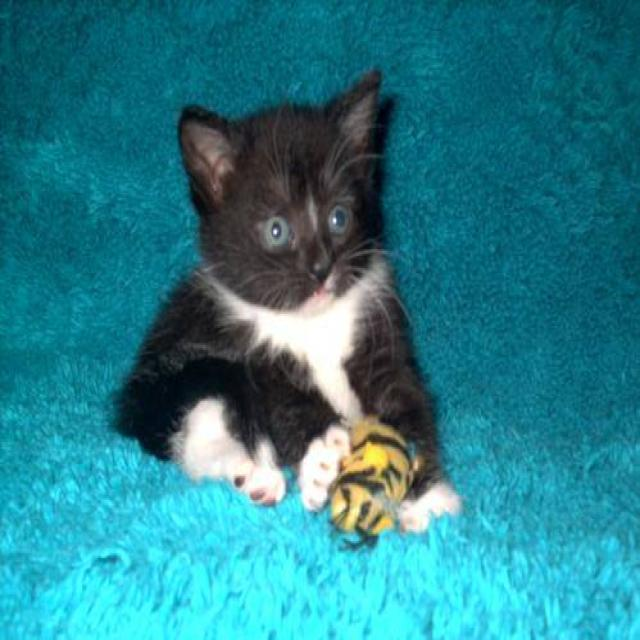cat: (109, 66, 463, 542)
